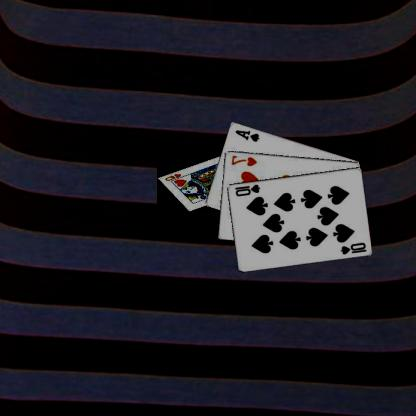10S: (339, 240, 369, 255), (233, 182, 262, 197)
7H: (230, 153, 260, 167)
AS: (234, 127, 262, 143)
